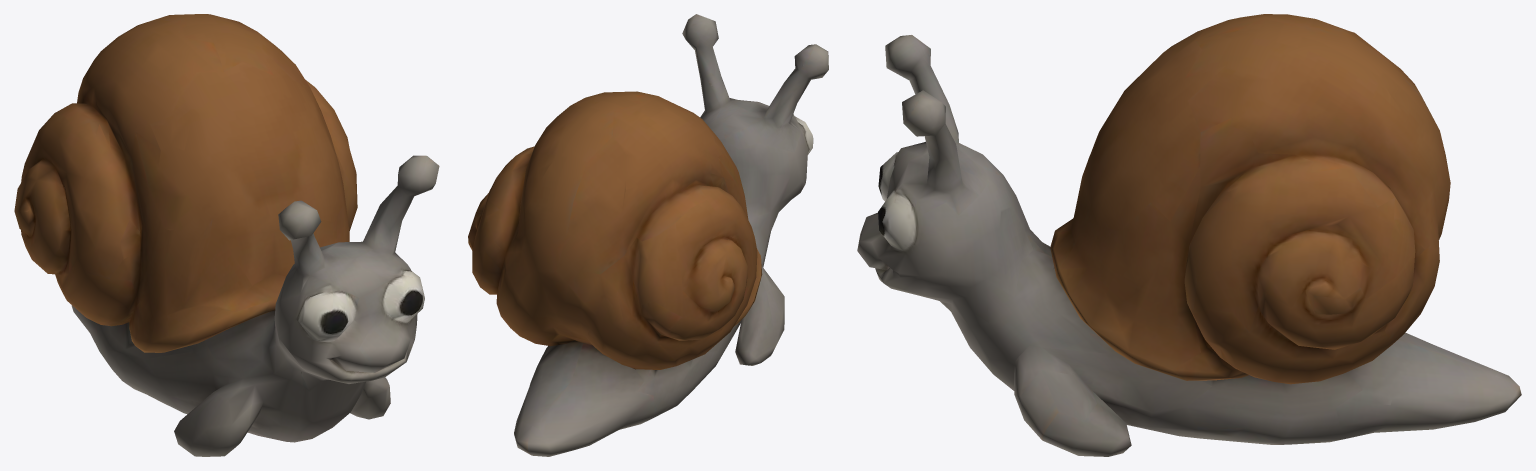
Rendered from fish-snail.glb.
The picture shows the model from 3 angles, left to right: view 1: azimuth 30°, elevation 25°; view 2: azimuth 150°, elevation 25°; view 3: azimuth 270°, elevation 25°; orthographic projection. The views are drawn at different scales.
Visible parts, largest first — view 1: tripo_node_2ce4cf55-dee2-4436-a5fd-986397852fdd; view 2: tripo_node_2ce4cf55-dee2-4436-a5fd-986397852fdd; view 3: tripo_node_2ce4cf55-dee2-4436-a5fd-986397852fdd.
Boxes of the visible parts, x1,y1,x2,y2 form: tripo_node_2ce4cf55-dee2-4436-a5fd-986397852fdd: (14, 14, 439, 456); tripo_node_2ce4cf55-dee2-4436-a5fd-986397852fdd: (468, 14, 828, 456); tripo_node_2ce4cf55-dee2-4436-a5fd-986397852fdd: (857, 14, 1521, 456).
Bounding box in the file's own units: 0.5907 × 0.6461 × 1.
1 material, 1 textured.
